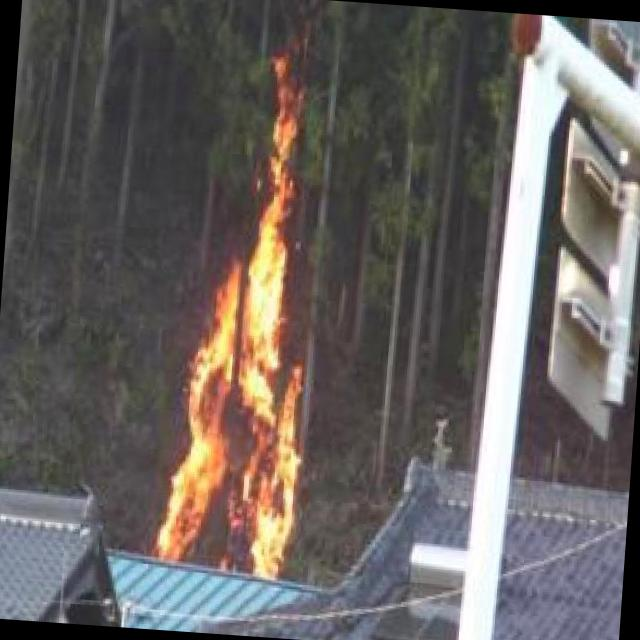Fire: (152, 73, 336, 585)
